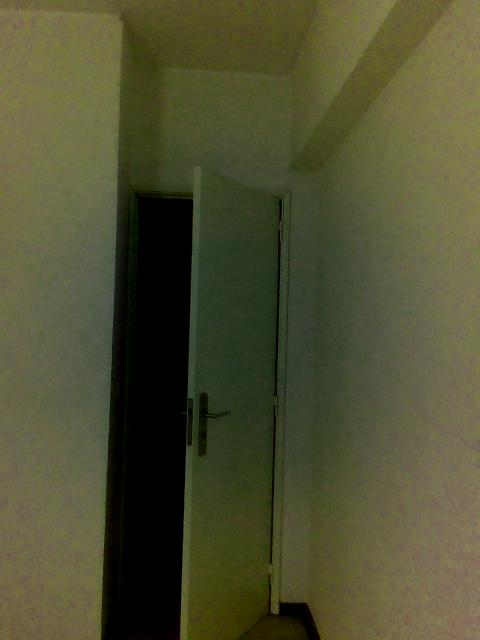semi_door: (119, 161, 289, 639)
